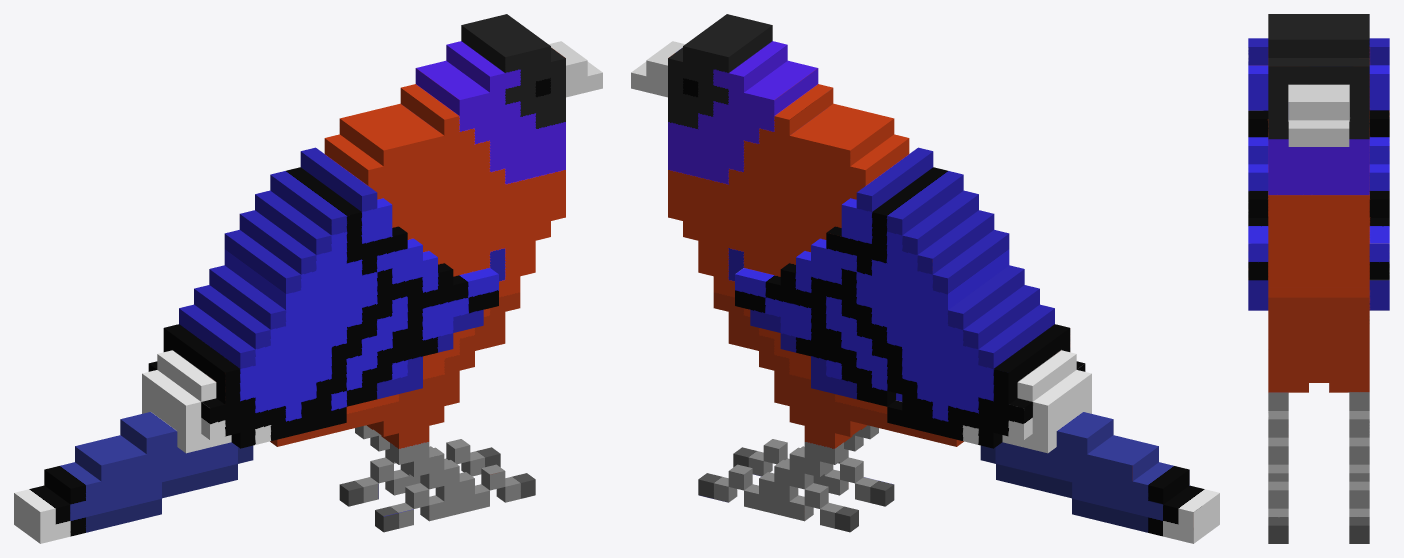
Rendered from rurikakesu.glb.
The picture shows the model from 3 angles, left to right: view 1: azimuth 30°, elevation 25°; view 2: azimuth 150°, elevation 25°; view 3: azimuth 270°, elevation 25°; orthographic projection. The views are drawn at different scales.
Parts seen in each view (by area): view 1: rurikakesu; view 2: rurikakesu; view 3: rurikakesu.
Boxes of the visible parts, x1,y1,x2,y2 form: rurikakesu: [14, 14, 602, 543]; rurikakesu: [631, 14, 1219, 543]; rurikakesu: [1248, 14, 1389, 543].
Size of the model in its own units: 0.74 by 0.56 by 0.14.
1 material, 1 textured.
